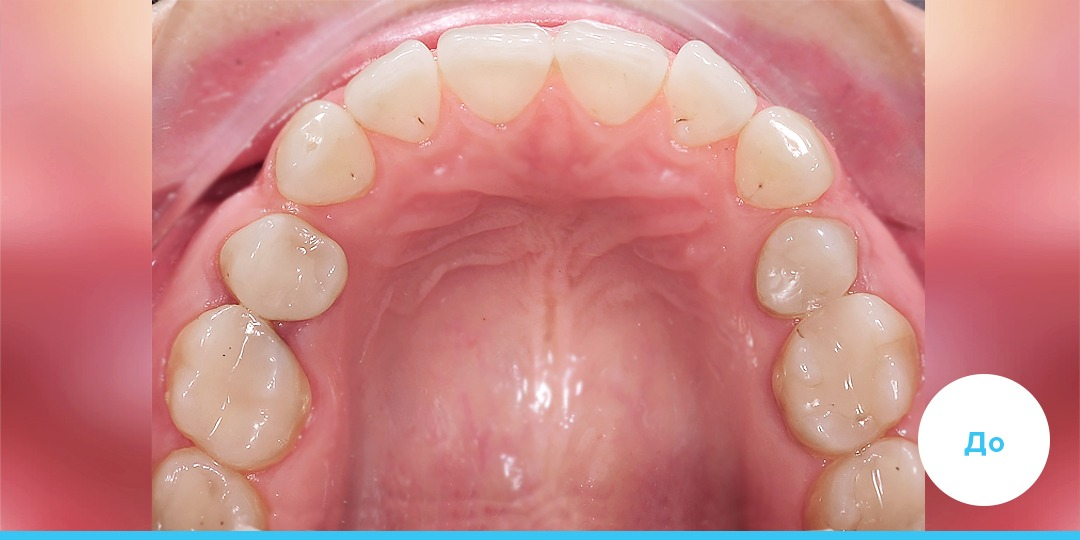UL1BC_healthy: (749, 214, 859, 309)
UL1M_healthy: (799, 445, 922, 528)
UL2BC_healthy: (772, 305, 918, 447)
ULCI_healthy: (556, 21, 667, 129)
ULC_healthy: (739, 111, 833, 209)
ULLI_healthy: (665, 43, 756, 149)
UR1BC_healthy: (216, 215, 348, 321)
UR1M_healthy: (152, 449, 267, 532)
UR2BC_healthy: (172, 305, 315, 463)
URCI_healthy: (441, 23, 553, 123)
URC_healthy: (273, 102, 377, 201)
URLI_healthy: (348, 38, 441, 142)
